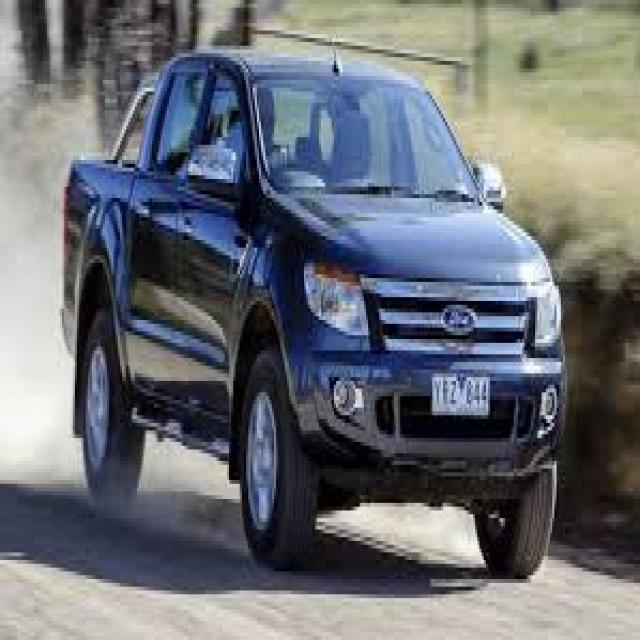Pickup Trucks: (60, 53, 567, 594)
